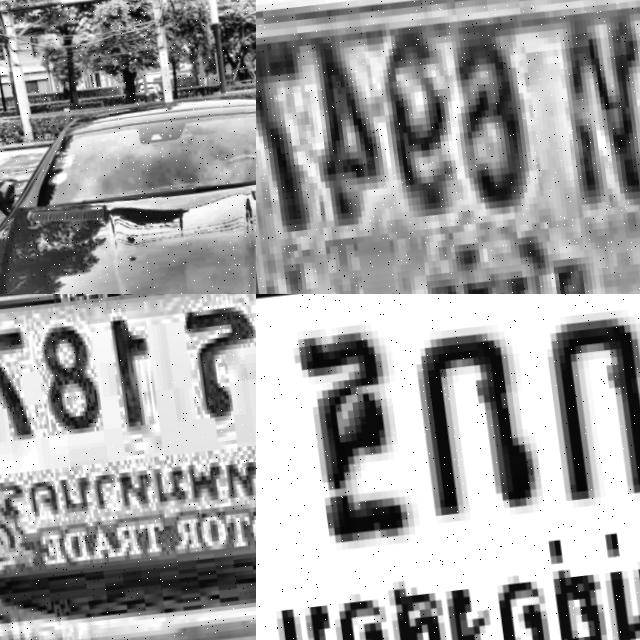license-plate: (256, 294, 640, 640), (256, 0, 640, 294), (0, 294, 256, 611)
